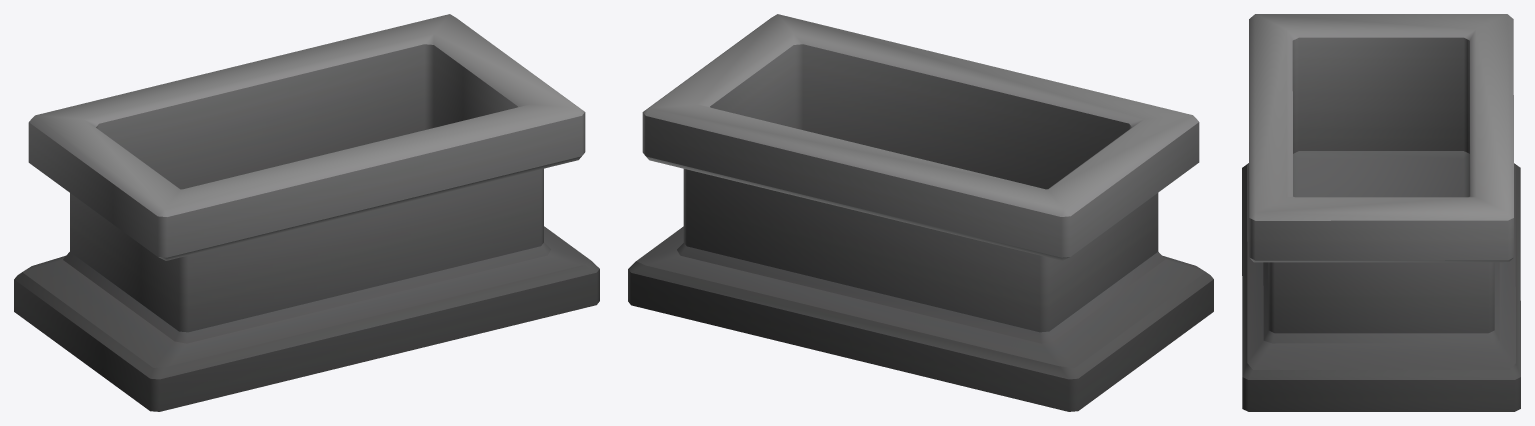
Rendered from GraveB_1_2.obj.
3 renders of one model, left to right at view 1: azimuth 30°, elevation 25°; view 2: azimuth 150°, elevation 25°; view 3: azimuth 270°, elevation 25°, orthographic. The views are drawn at different scales.
Visible parts, largest first — view 1: GraveB_1_2; view 2: GraveB_1_2; view 3: GraveB_1_2.
Part boxes in pixels (x1,y1,x2,y2): GraveB_1_2: [14, 14, 599, 411]; GraveB_1_2: [628, 14, 1213, 411]; GraveB_1_2: [1242, 14, 1520, 411].
Size of the model in its own units: 1.77 by 0.7311 by 0.9677.
